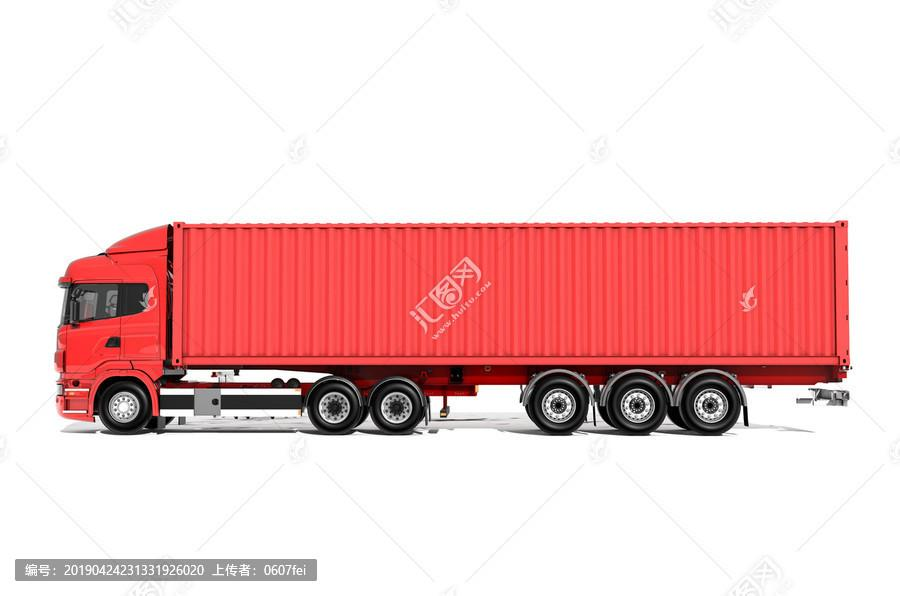truck: (52, 192, 857, 455)
